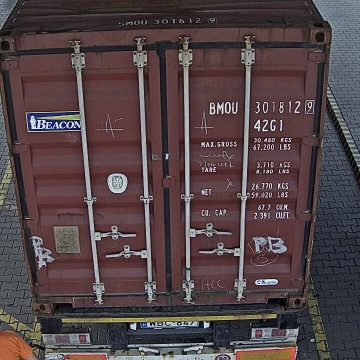serial_id: (209, 100, 314, 114)
